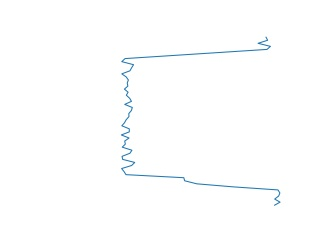distributaryChannelFill: (116, 35, 283, 208)
